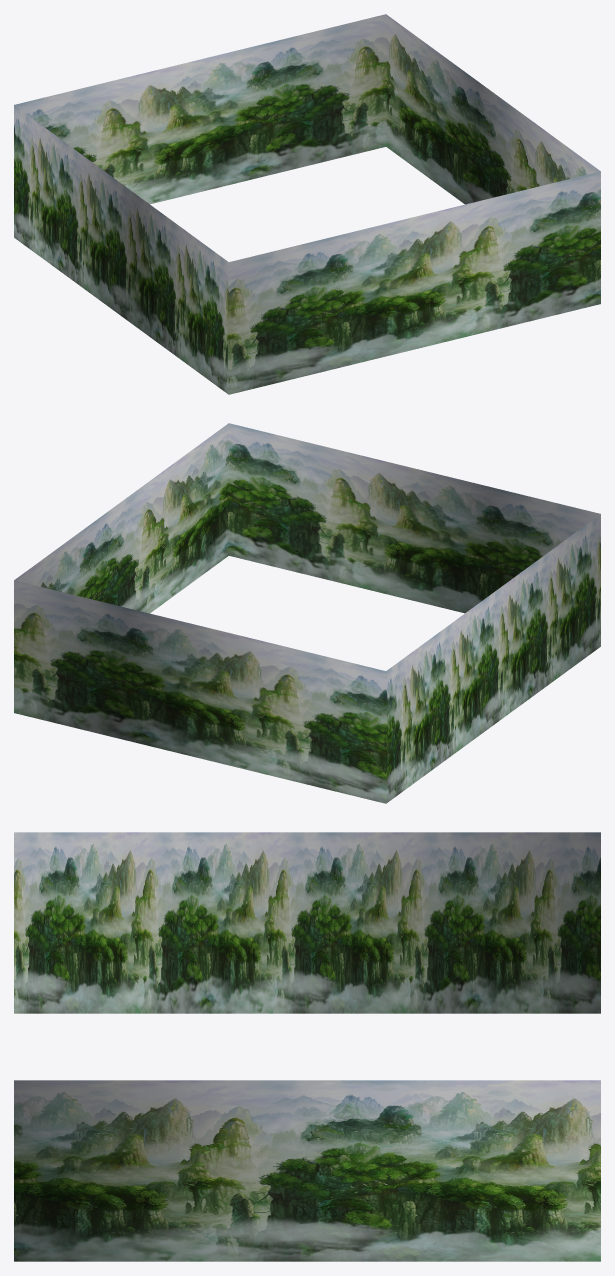
The model's file is s7_3d_sky_001_01.FBX.
3 renders of one model, top to bottom at view 1: azimuth 30°, elevation 25°; view 2: azimuth 150°, elevation 25°; view 3: azimuth 270°, elevation 25°, orthographic. The views are drawn at different scales.
Parts seen in each view (by area): view 1: s7_3d_sky_001_01; view 2: s7_3d_sky_001_01; view 3: s7_3d_sky_001_01.
Part boxes in pixels (left/top/right/bottom): s7_3d_sky_001_01: left=14, top=14, right=600, bottom=394; s7_3d_sky_001_01: left=14, top=423, right=600, bottom=803; s7_3d_sky_001_01: left=14, top=832, right=600, bottom=1261.
Bounding box in the file's own units: 324 × 110 × 324.
Materials: 1 (1 with a texture image).
